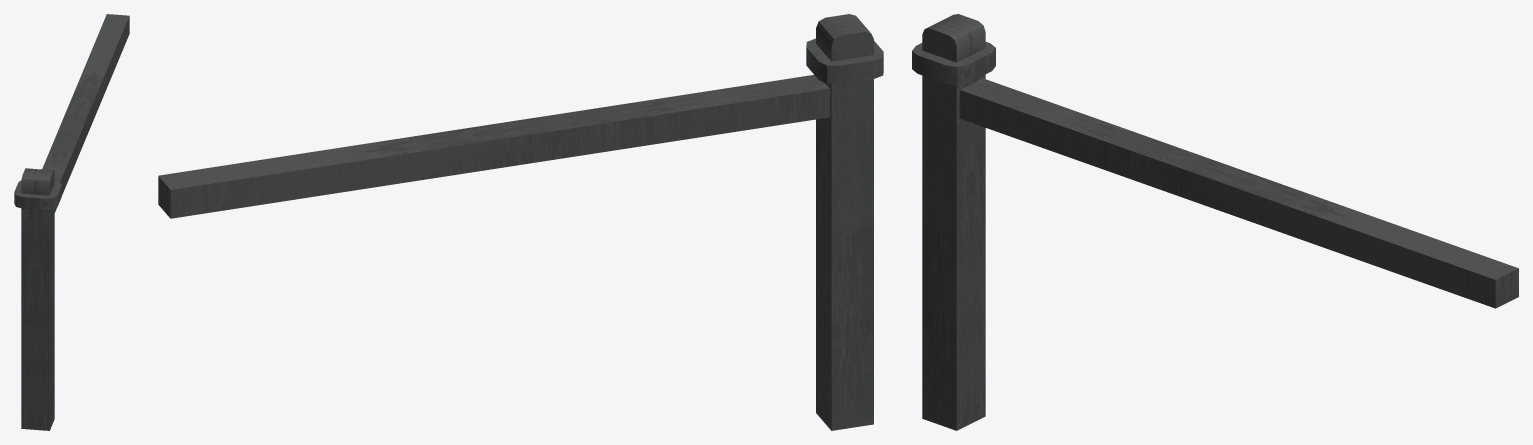
The picture shows the model from 3 angles, left to right: view 1: azimuth 30°, elevation 25°; view 2: azimuth 150°, elevation 25°; view 3: azimuth 270°, elevation 25°; orthographic projection. The views are drawn at different scales.
Parts seen in each view (by area): view 1: Cube046_metal3_0; view 2: Cube046_metal3_0; view 3: Cube046_metal3_0.
Part boxes in pixels (left/top/right/bottom): Cube046_metal3_0: left=14, top=14, right=129, bottom=430; Cube046_metal3_0: left=158, top=14, right=883, bottom=430; Cube046_metal3_0: left=912, top=14, right=1518, bottom=430.
Size of the model in its own units: 1.15 by 0.96 by 1.34.
1 material, 1 textured.
